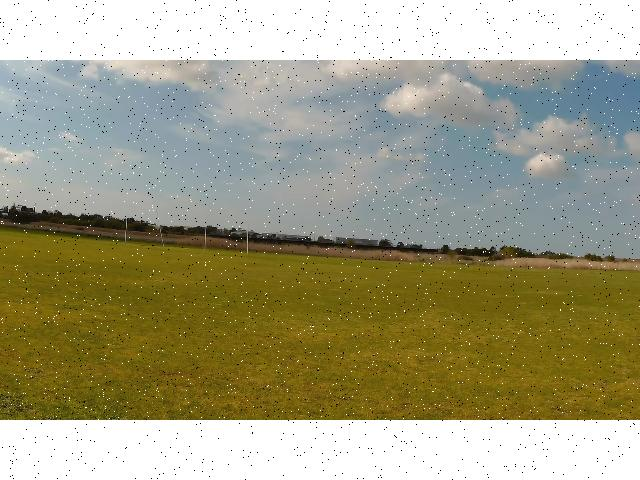Anti-Drone: (212, 172, 244, 190)
